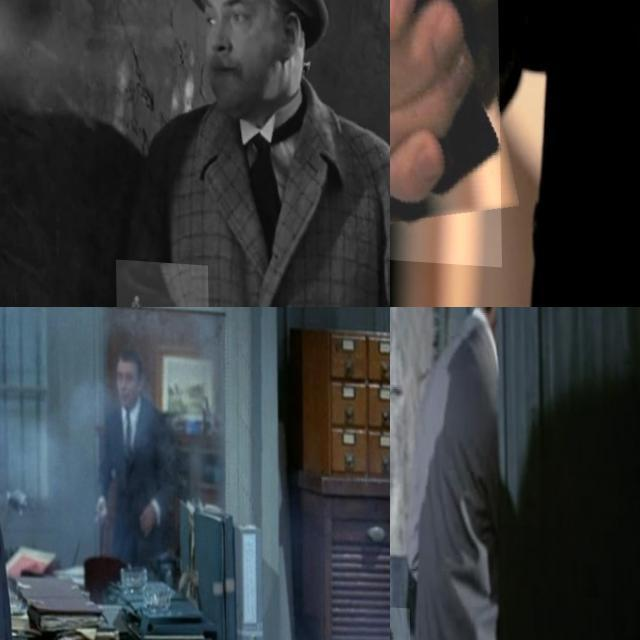gun-knife-thesis - v11 Yolov5 augmented: (390, 0, 613, 261), (114, 258, 208, 307), (390, 601, 420, 640)
